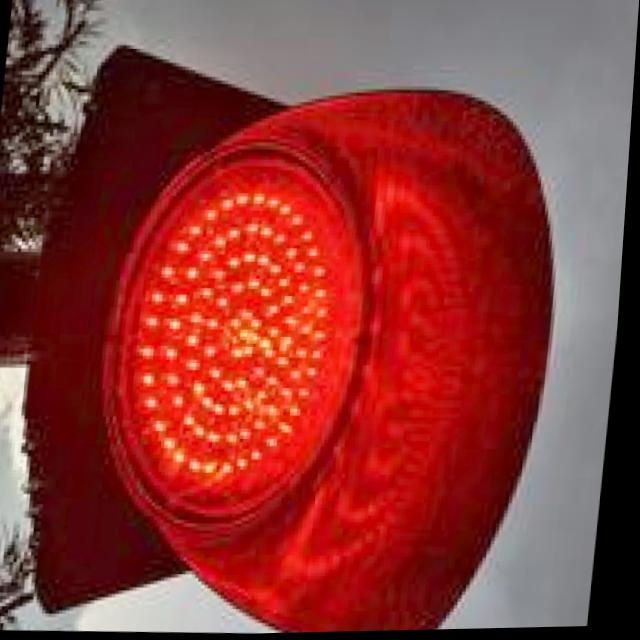red_light: (104, 104, 533, 620)
